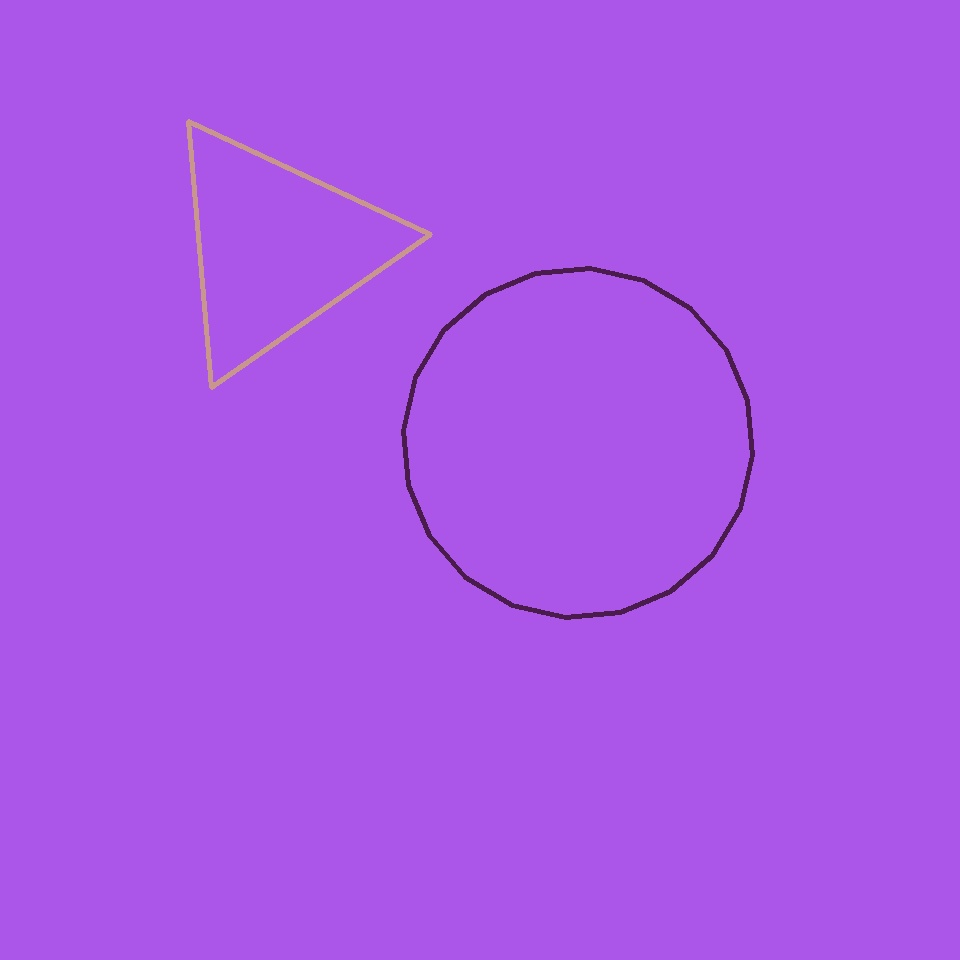circle: (156, 115, 398, 381)
triangle: (404, 269, 752, 618)
